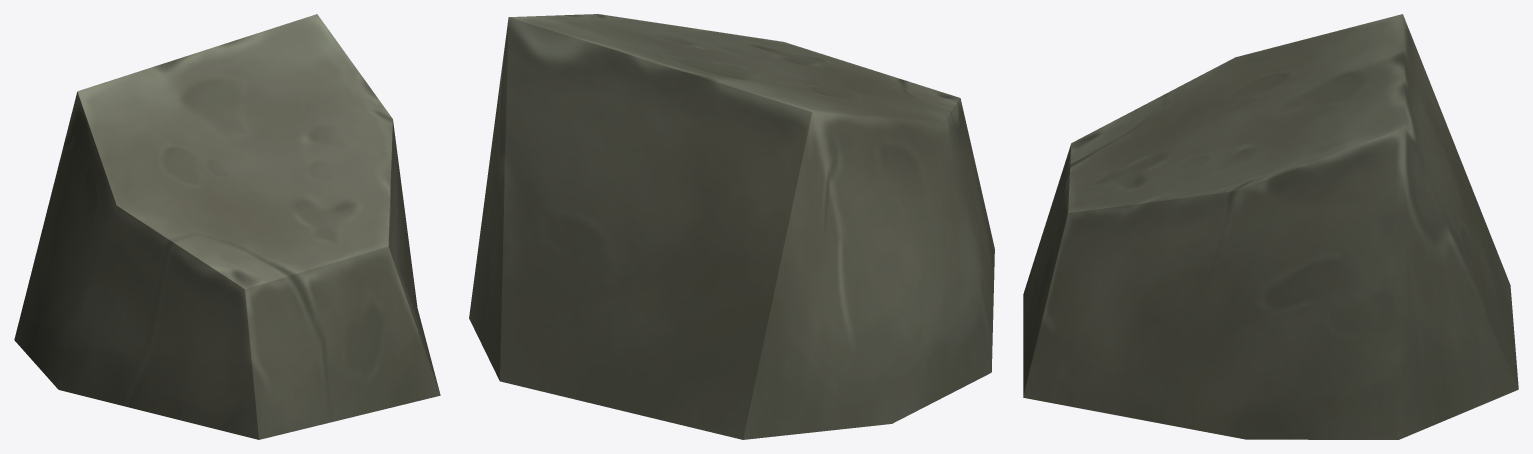
File: Rock Flat #2.fbx
The picture shows the model from 3 angles, left to right: view 1: azimuth 30°, elevation 25°; view 2: azimuth 150°, elevation 25°; view 3: azimuth 270°, elevation 25°; orthographic projection. The views are drawn at different scales.
Parts seen in each view (by area): view 1: Rock Flat #2; view 2: Rock Flat #2; view 3: Rock Flat #2.
Boxes of the visible parts, x1,y1,x2,y2 form: Rock Flat #2: (14, 14, 440, 439); Rock Flat #2: (469, 14, 994, 439); Rock Flat #2: (1023, 14, 1518, 439).
Bounding box in the file's own units: 132 × 89.14 × 137.
1 material, 1 textured.
